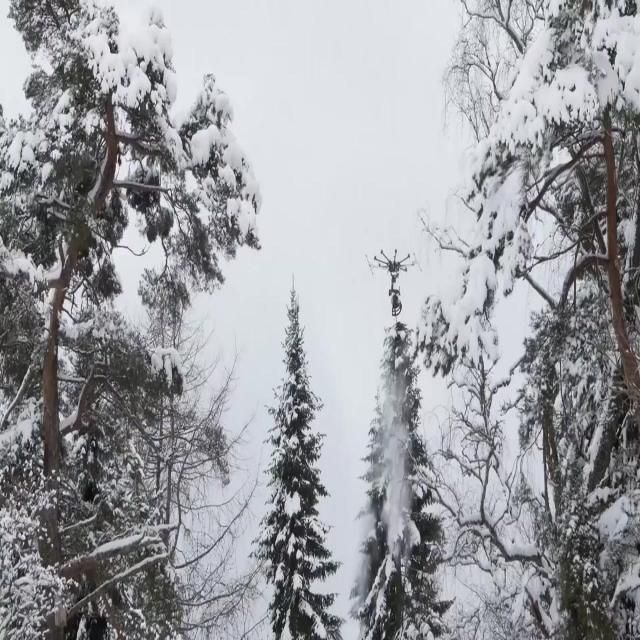UAV: (366, 249, 422, 279)
